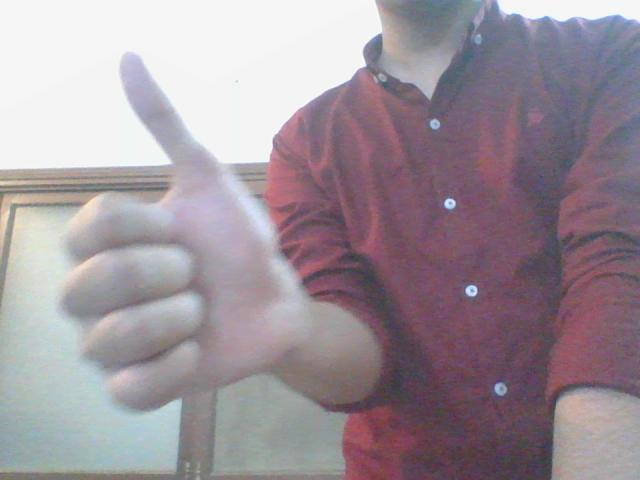thumbs-up: (63, 40, 285, 407)
